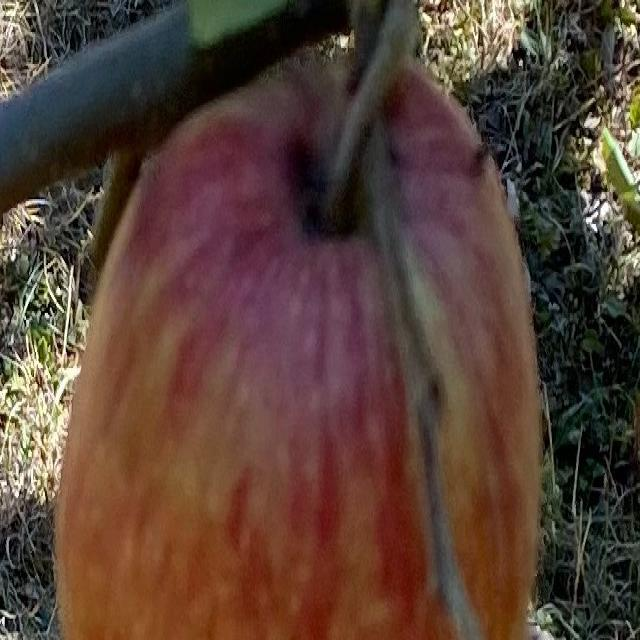Apples: (55, 54, 544, 638)
